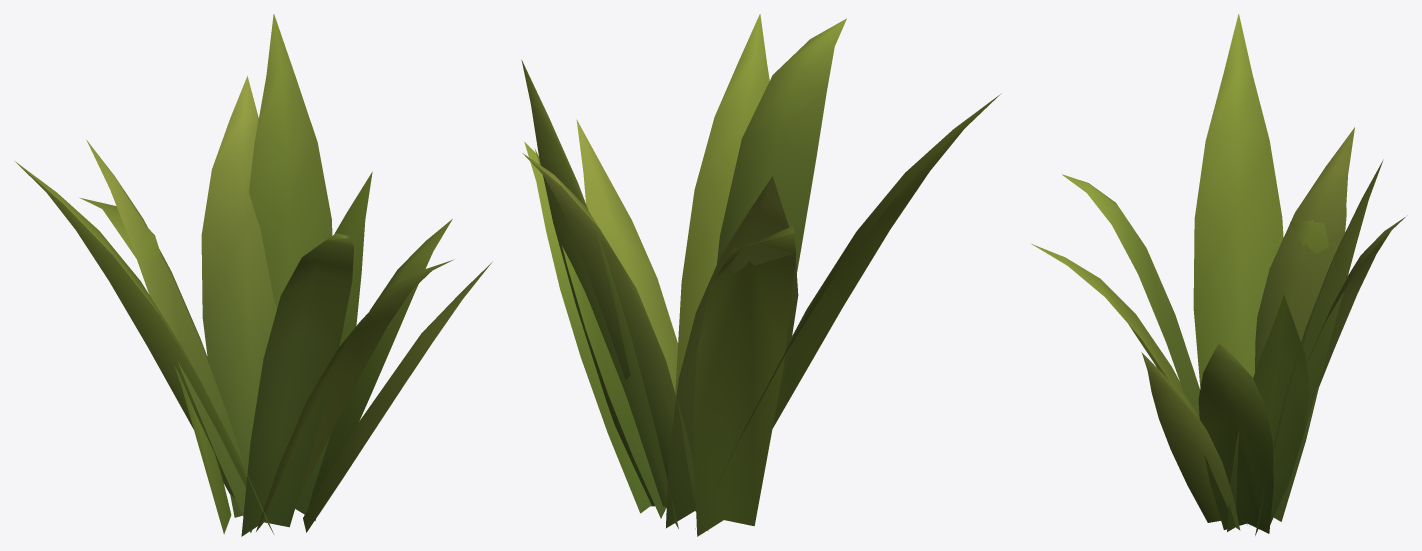
File: grass_reed_arch.glb
3 renders of one model, left to right at view 1: azimuth 30°, elevation 25°; view 2: azimuth 150°, elevation 25°; view 3: azimuth 270°, elevation 25°, orthographic. The views are drawn at different scales.
Visible parts, largest first — view 1: Plant; view 2: Plant; view 3: Plant.
Part boxes in pixels (left/top/right/bottom): Plant: left=15, top=14, right=492, bottom=536; Plant: left=521, top=14, right=1001, bottom=536; Plant: left=1031, top=14, right=1407, bottom=535.
Bounding box in the file's own units: 0.5621 × 0.5449 × 0.4732.
